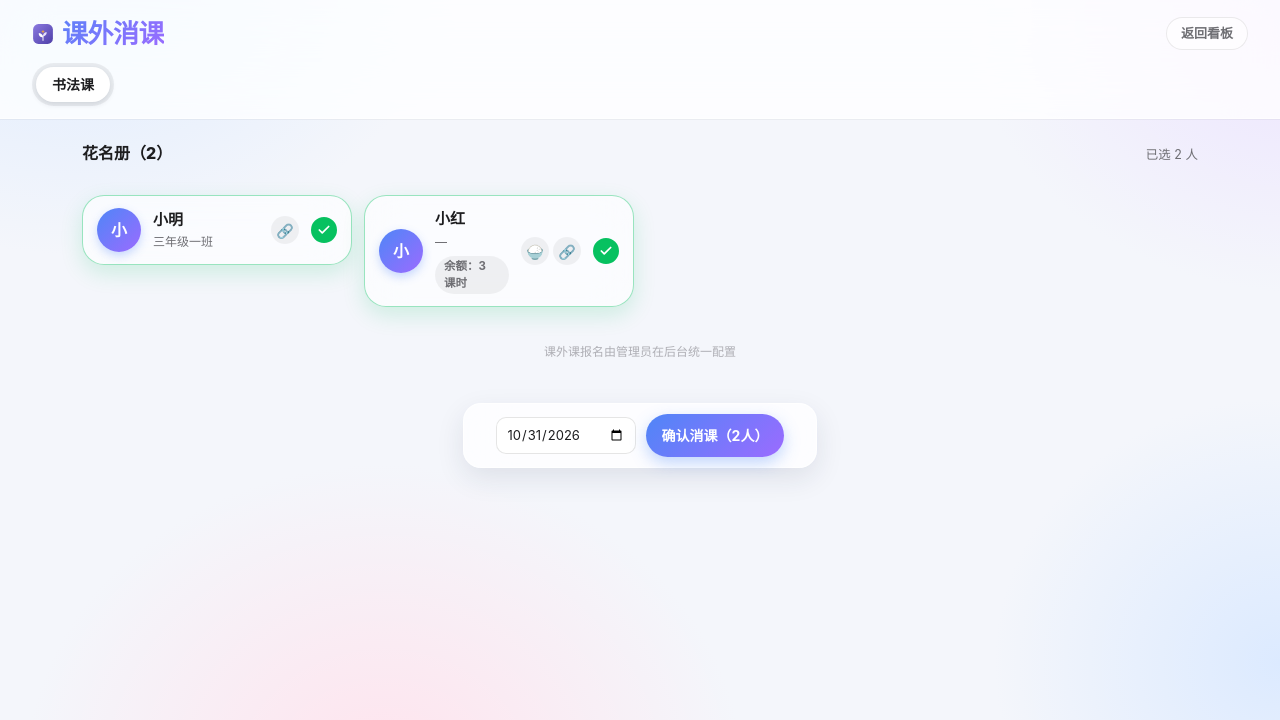
Test: CourseConsumptionPage › opens the parent share-link modal for a student without toggling their attendance checkbox
Expected: the text "小明" is shown, x1=153 y1=210 x2=183 y2=229
Expected: the checkbox labelled "小 小明 三年级一班 🔗" is checked, x1=82 y1=195 x2=352 y2=265
Click the button named "查看小明的家长专属链接": {"x": 285, "y": 230} x1=271 y1=216 x2=299 y2=244
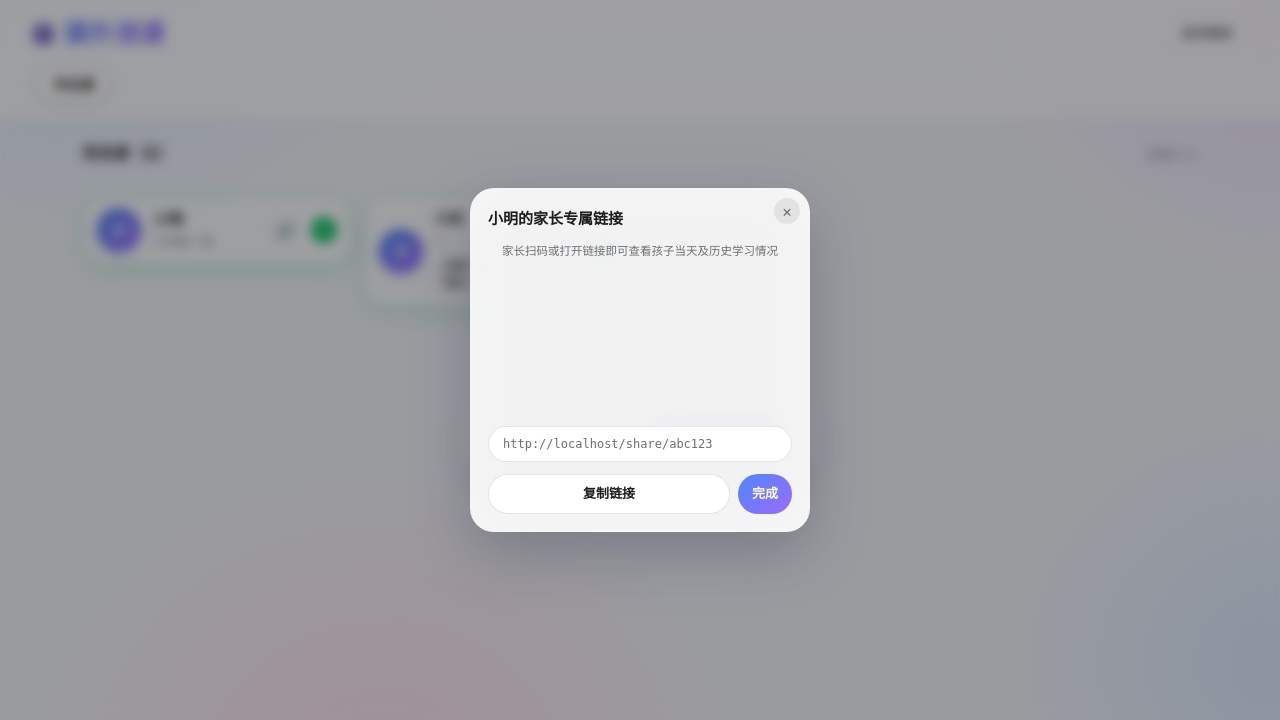
Expected: the checkbox labelled "小 小明 三年级一班 🔗" is checked, x1=82 y1=195 x2=352 y2=265
Expected: the dialog "家长专属链接" is shown, x1=470 y1=188 x2=810 y2=532
